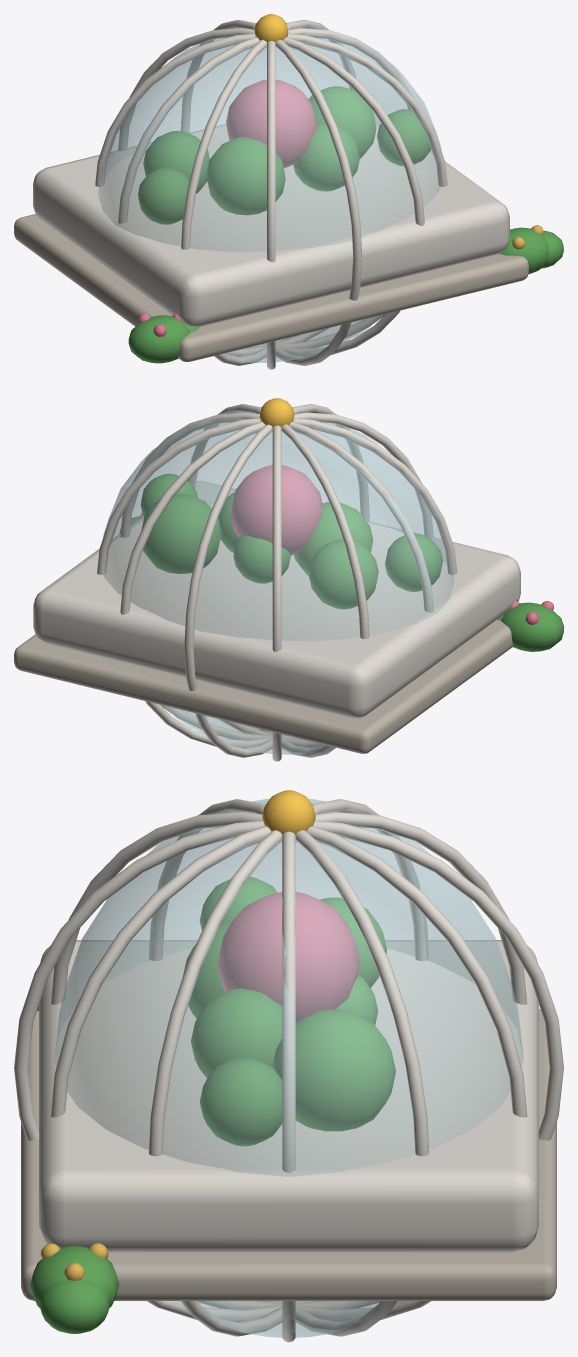
3 views of the same model, one above another, from view 1: azimuth 30°, elevation 25°; view 2: azimuth 150°, elevation 25°; view 3: azimuth 270°, elevation 25° (orthographic). The views are drawn at different scales.
Parts seen in each view (by area): view 1: Cube; view 2: Cube; view 3: Cube.
Boxes of the visible parts, x1,y1,x2,y2 form: Cube: (14, 14, 563, 369); Cube: (14, 398, 563, 761); Cube: (14, 790, 563, 1342).
Size of the model in its own units: 0.8614 by 0.648 by 0.616.
